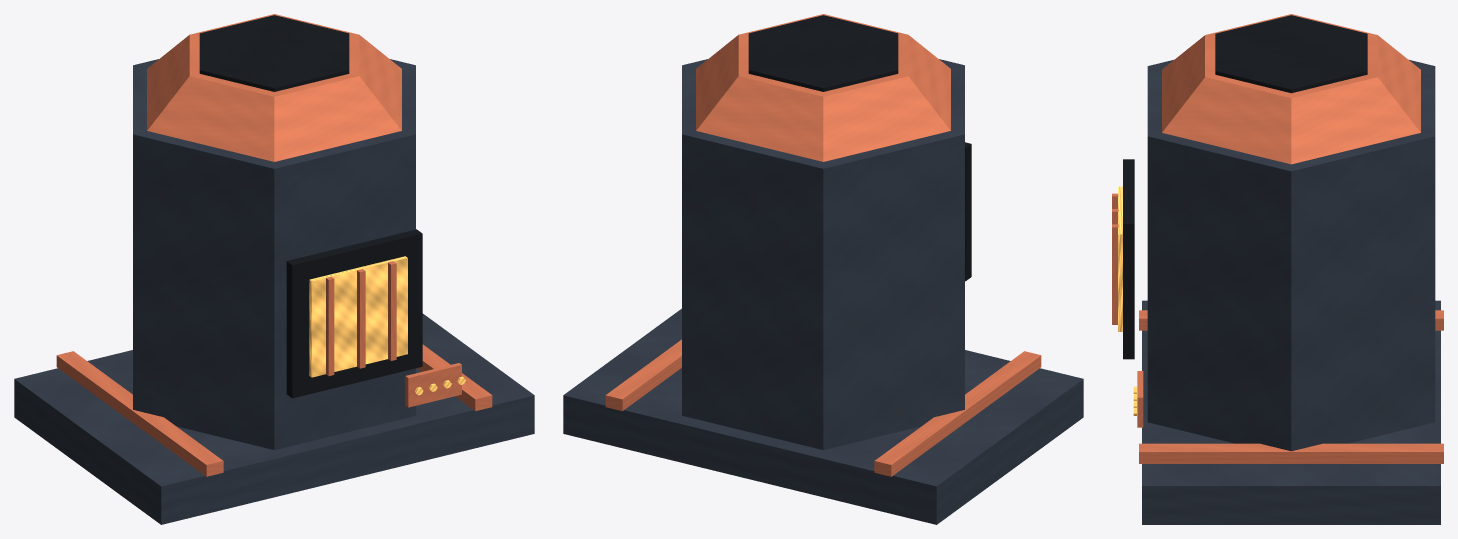
Rendered from atlas100-s022-a01.glb.
3 views of the same model, side by side, from view 1: azimuth 30°, elevation 25°; view 2: azimuth 150°, elevation 25°; view 3: azimuth 270°, elevation 25° (orthographic).
Parts seen in each view (by area): view 1: atlas100-s022-a01:part-003, atlas100-s022-a01:part-000, atlas100-s022-a01:part-004, atlas100-s022-a01:part-006, atlas100-s022-a01:part-005, atlas100-s022-a01:part-007, atlas100-s022-a01:part-001, atlas100-s022-a01:part-011, atlas100-s022-a01:part-002, atlas100-s022-a01:part-010, atlas100-s022-a01:part-009, atlas100-s022-a01:part-008; view 2: atlas100-s022-a01:part-003, atlas100-s022-a01:part-000, atlas100-s022-a01:part-004, atlas100-s022-a01:part-005, atlas100-s022-a01:part-001, atlas100-s022-a01:part-002, atlas100-s022-a01:part-006; view 3: atlas100-s022-a01:part-003, atlas100-s022-a01:part-000, atlas100-s022-a01:part-004, atlas100-s022-a01:part-005, atlas100-s022-a01:part-002, atlas100-s022-a01:part-006, atlas100-s022-a01:part-007, atlas100-s022-a01:part-010, atlas100-s022-a01:part-011.
Boxes of the visible parts, bbox=[...] form: atlas100-s022-a01:part-003: bbox=[133, 59, 415, 449]; atlas100-s022-a01:part-000: bbox=[14, 313, 534, 524]; atlas100-s022-a01:part-004: bbox=[147, 14, 401, 161]; atlas100-s022-a01:part-006: bbox=[286, 229, 422, 398]; atlas100-s022-a01:part-005: bbox=[199, 15, 349, 91]; atlas100-s022-a01:part-007: bbox=[309, 256, 407, 377]; atlas100-s022-a01:part-001: bbox=[56, 351, 223, 476]; atlas100-s022-a01:part-011: bbox=[405, 363, 461, 407]; atlas100-s022-a01:part-002: bbox=[417, 344, 492, 411]; atlas100-s022-a01:part-010: bbox=[388, 261, 396, 360]; atlas100-s022-a01:part-009: bbox=[357, 269, 365, 368]; atlas100-s022-a01:part-008: bbox=[326, 276, 334, 375]; atlas100-s022-a01:part-003: bbox=[682, 59, 964, 449]; atlas100-s022-a01:part-000: bbox=[563, 308, 1083, 524]; atlas100-s022-a01:part-004: bbox=[696, 14, 950, 161]; atlas100-s022-a01:part-005: bbox=[748, 15, 898, 91]; atlas100-s022-a01:part-001: bbox=[874, 351, 1041, 476]; atlas100-s022-a01:part-002: bbox=[605, 339, 681, 411]; atlas100-s022-a01:part-006: bbox=[965, 142, 971, 281]; atlas100-s022-a01:part-003: bbox=[1147, 60, 1435, 451]; atlas100-s022-a01:part-000: bbox=[1142, 300, 1440, 524]; atlas100-s022-a01:part-004: bbox=[1162, 14, 1420, 164]; atlas100-s022-a01:part-005: bbox=[1215, 15, 1367, 93]; atlas100-s022-a01:part-002: bbox=[1139, 443, 1443, 463]; atlas100-s022-a01:part-006: bbox=[1123, 159, 1134, 359]; atlas100-s022-a01:part-007: bbox=[1118, 186, 1122, 331]; atlas100-s022-a01:part-010: bbox=[1112, 224, 1118, 324]; atlas100-s022-a01:part-011: bbox=[1137, 371, 1143, 427].
Bounding box in the file's own units: 2.64 × 2.53 × 2.
4 materials, 4 textured.
